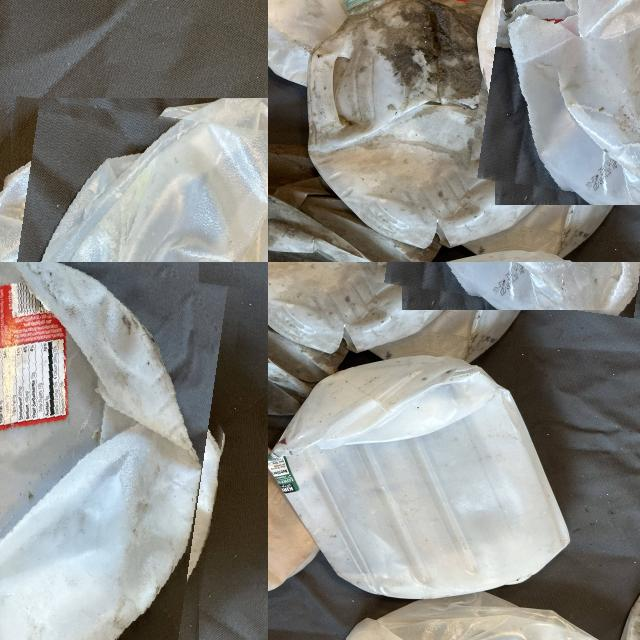milk-jug: (0, 262, 228, 640), (272, 355, 570, 604), (298, 0, 544, 242), (0, 108, 268, 262), (476, 0, 640, 205), (268, 0, 483, 85), (268, 262, 451, 347)
